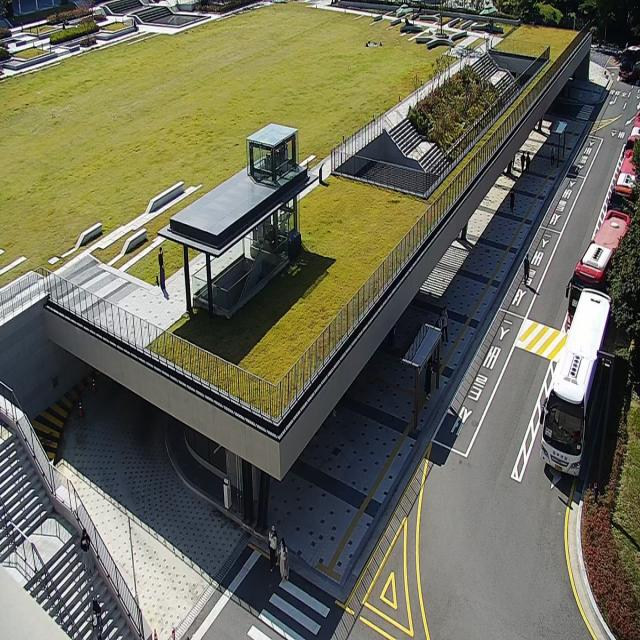queue: (415, 307, 447, 431)
